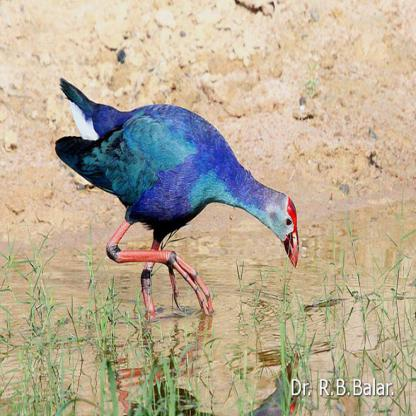Burung: (53, 75, 299, 317)
